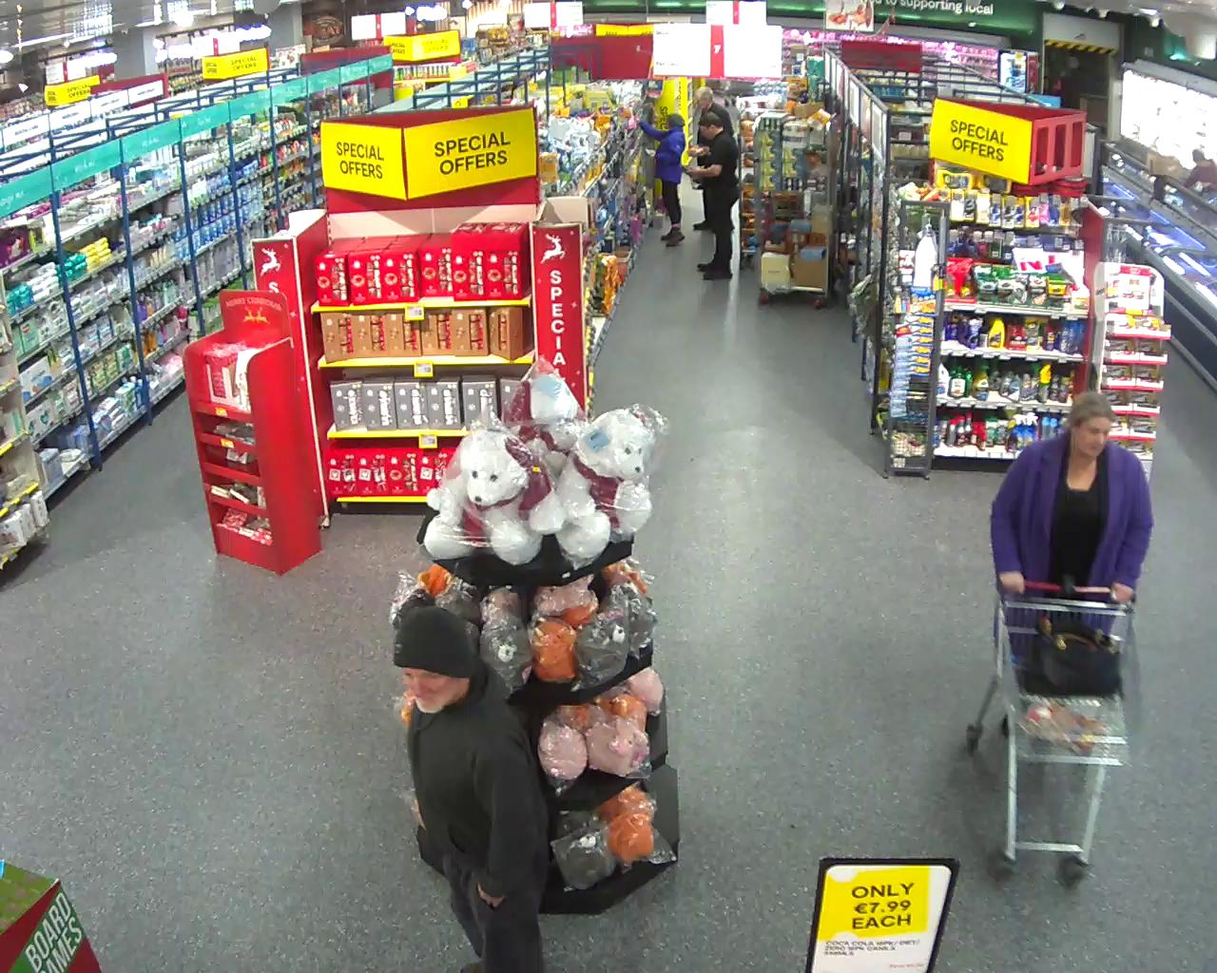backpack-or-handbag: (1020, 617, 1123, 701)
filled-trolly: (966, 579, 1141, 885)
person: (989, 393, 1154, 604)
person-with-basket-trolly-and-backpack-handbag: (968, 391, 1155, 890)
